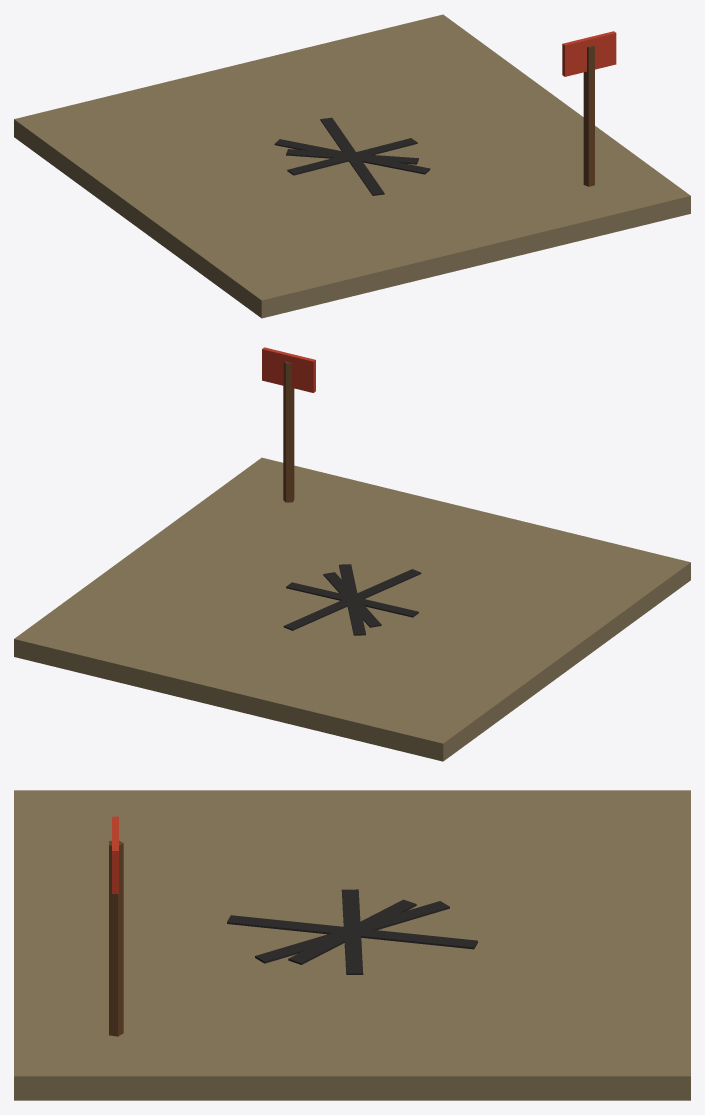
The model's file is Deposit_Gas_Depleted.fbx.
3 views of the same model, one above another, from view 1: azimuth 30°, elevation 25°; view 2: azimuth 150°, elevation 25°; view 3: azimuth 270°, elevation 25° (orthographic). The views are drawn at different scales.
Parts seen in each view (by area): view 1: Deposit_Gas_Depleted_Body; view 2: Deposit_Gas_Depleted_Body; view 3: Deposit_Gas_Depleted_Body.
Part boxes in pixels (<box>): Deposit_Gas_Depleted_Body: <box>14,14,690,318</box>; Deposit_Gas_Depleted_Body: <box>14,347,690,761</box>; Deposit_Gas_Depleted_Body: <box>14,790,690,1100</box>.
Size of the model in its own units: 1 by 0.365 by 1.
